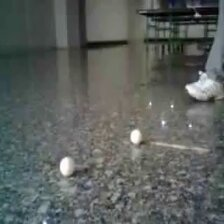w: (59, 156, 76, 177), (130, 129, 143, 144)
